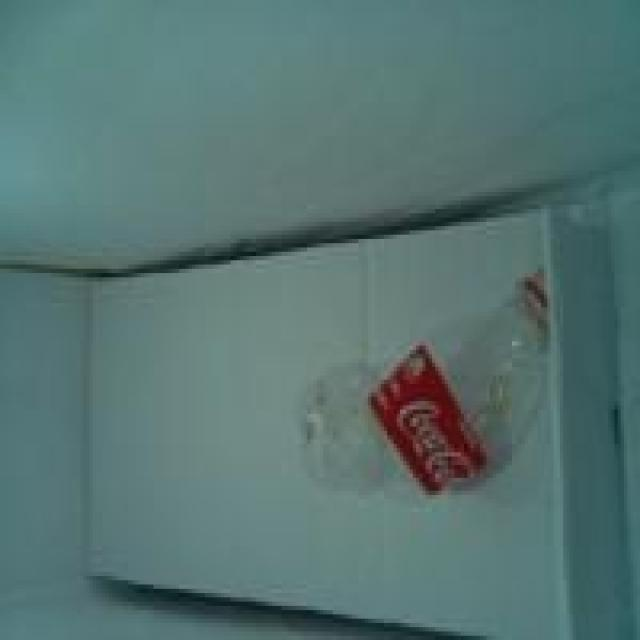bottle: (308, 242, 574, 566)
